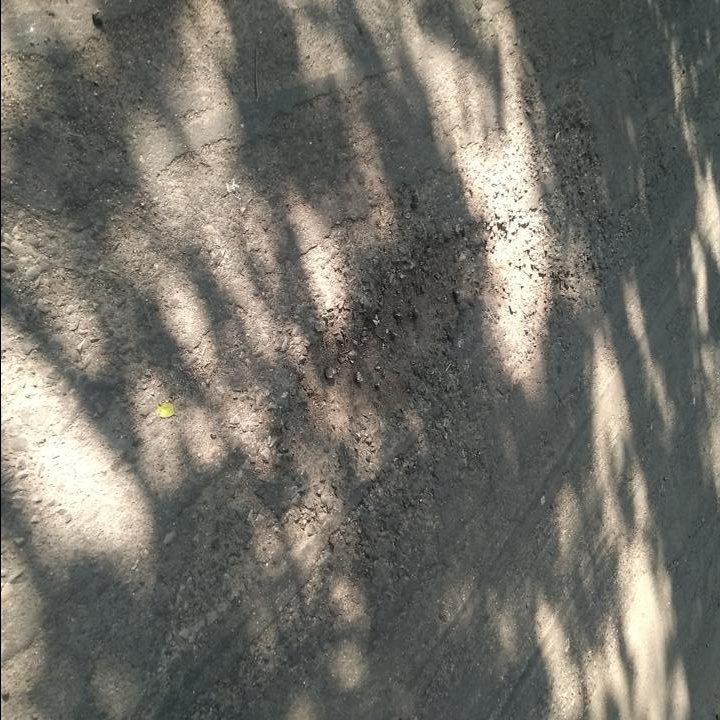pothole: (300, 215, 496, 449)
